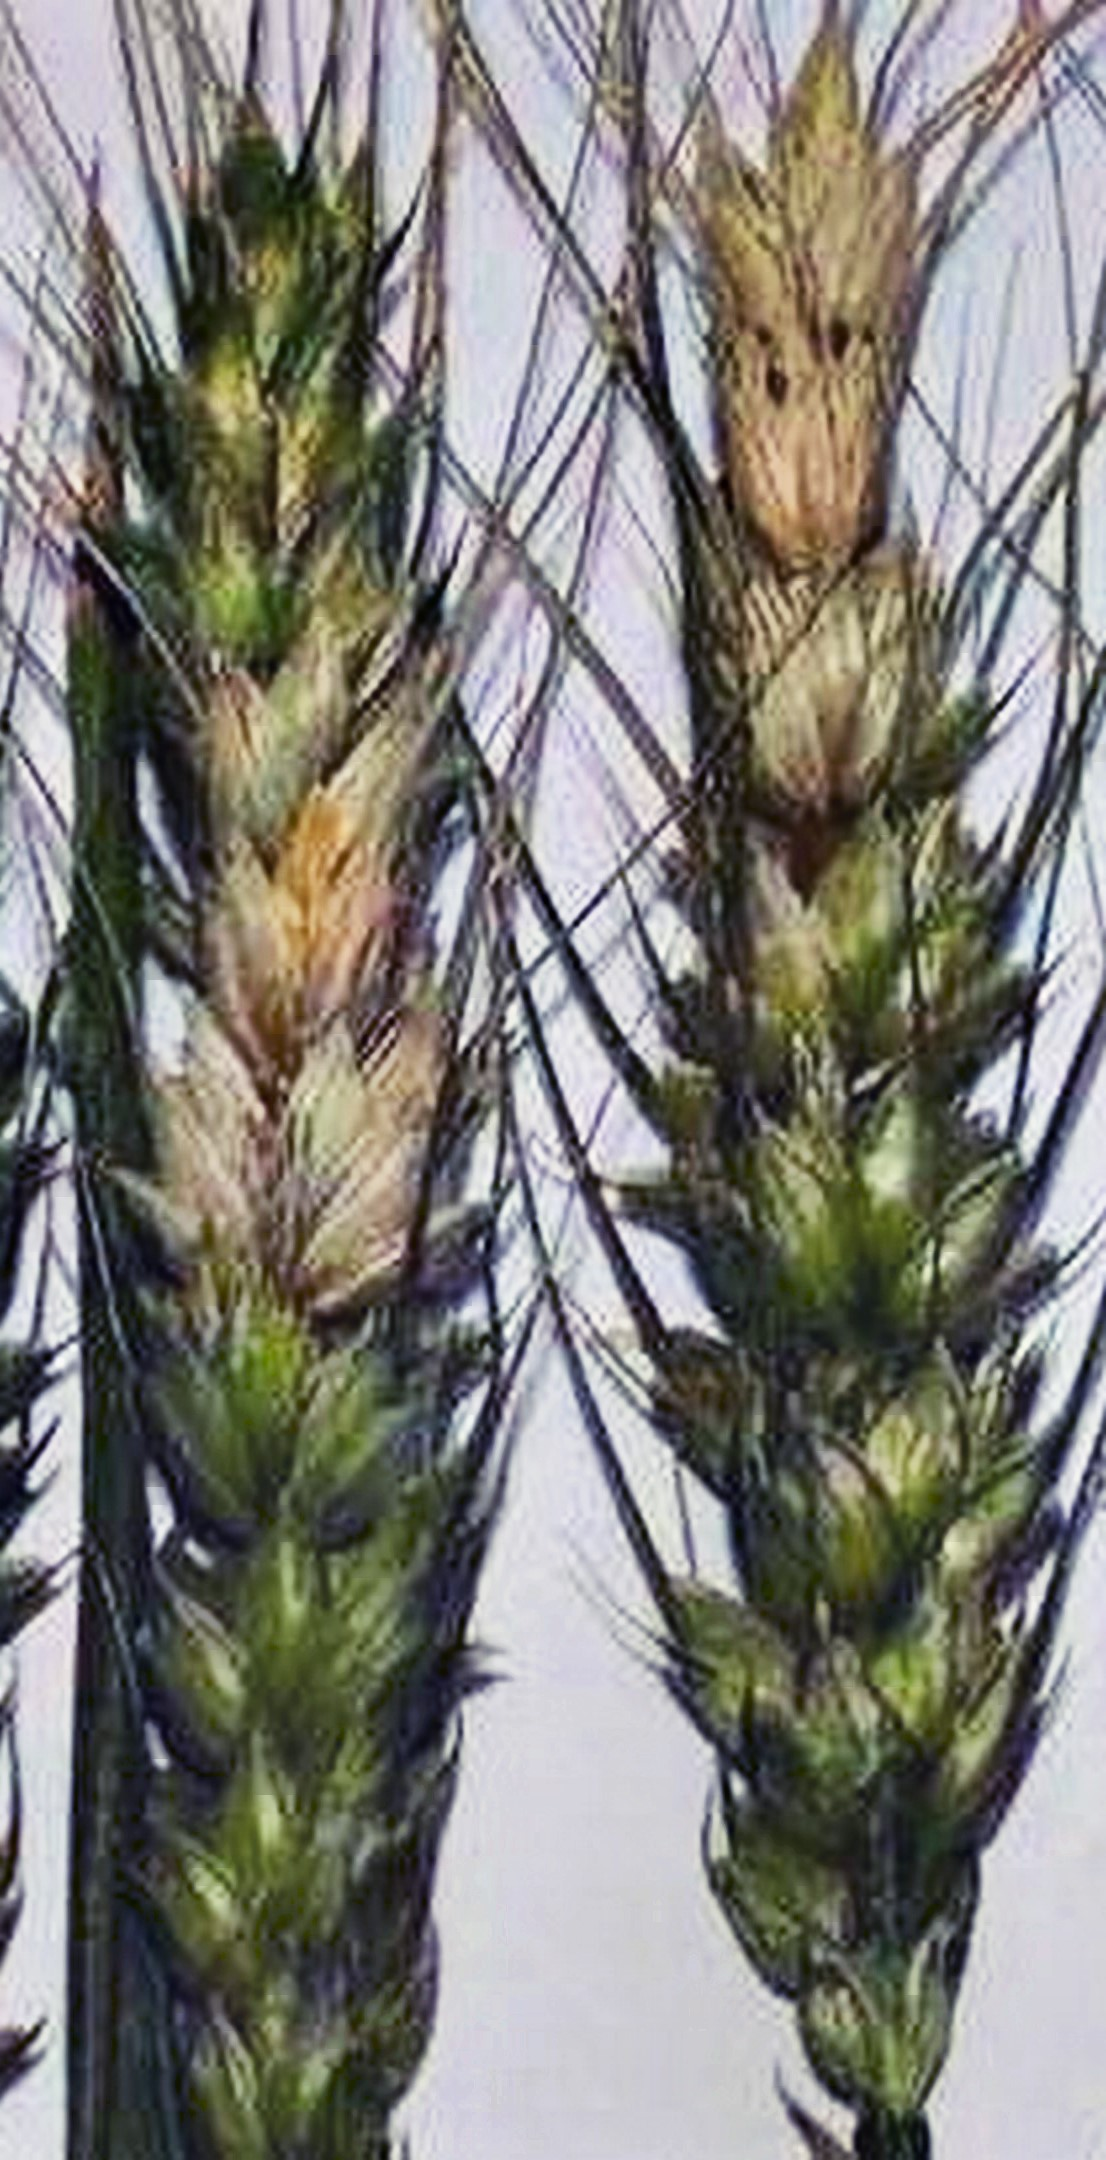Wheat scab: (624, 85, 1090, 2054), (63, 157, 501, 2160)
